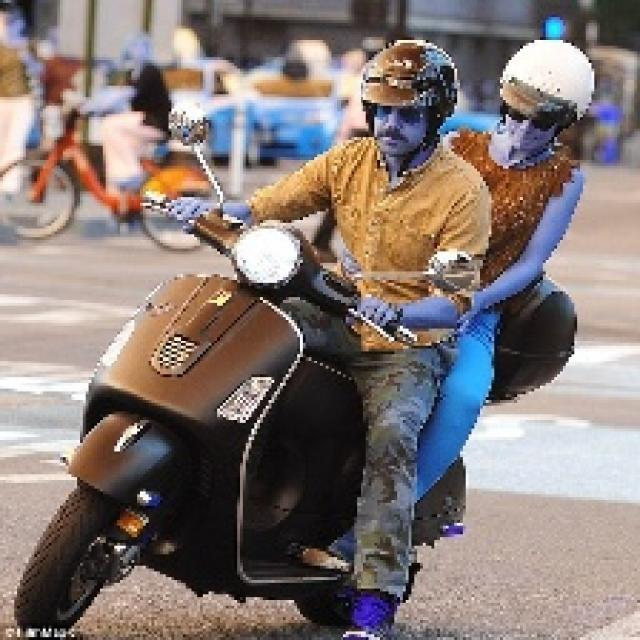bike: (31, 243, 354, 639)
